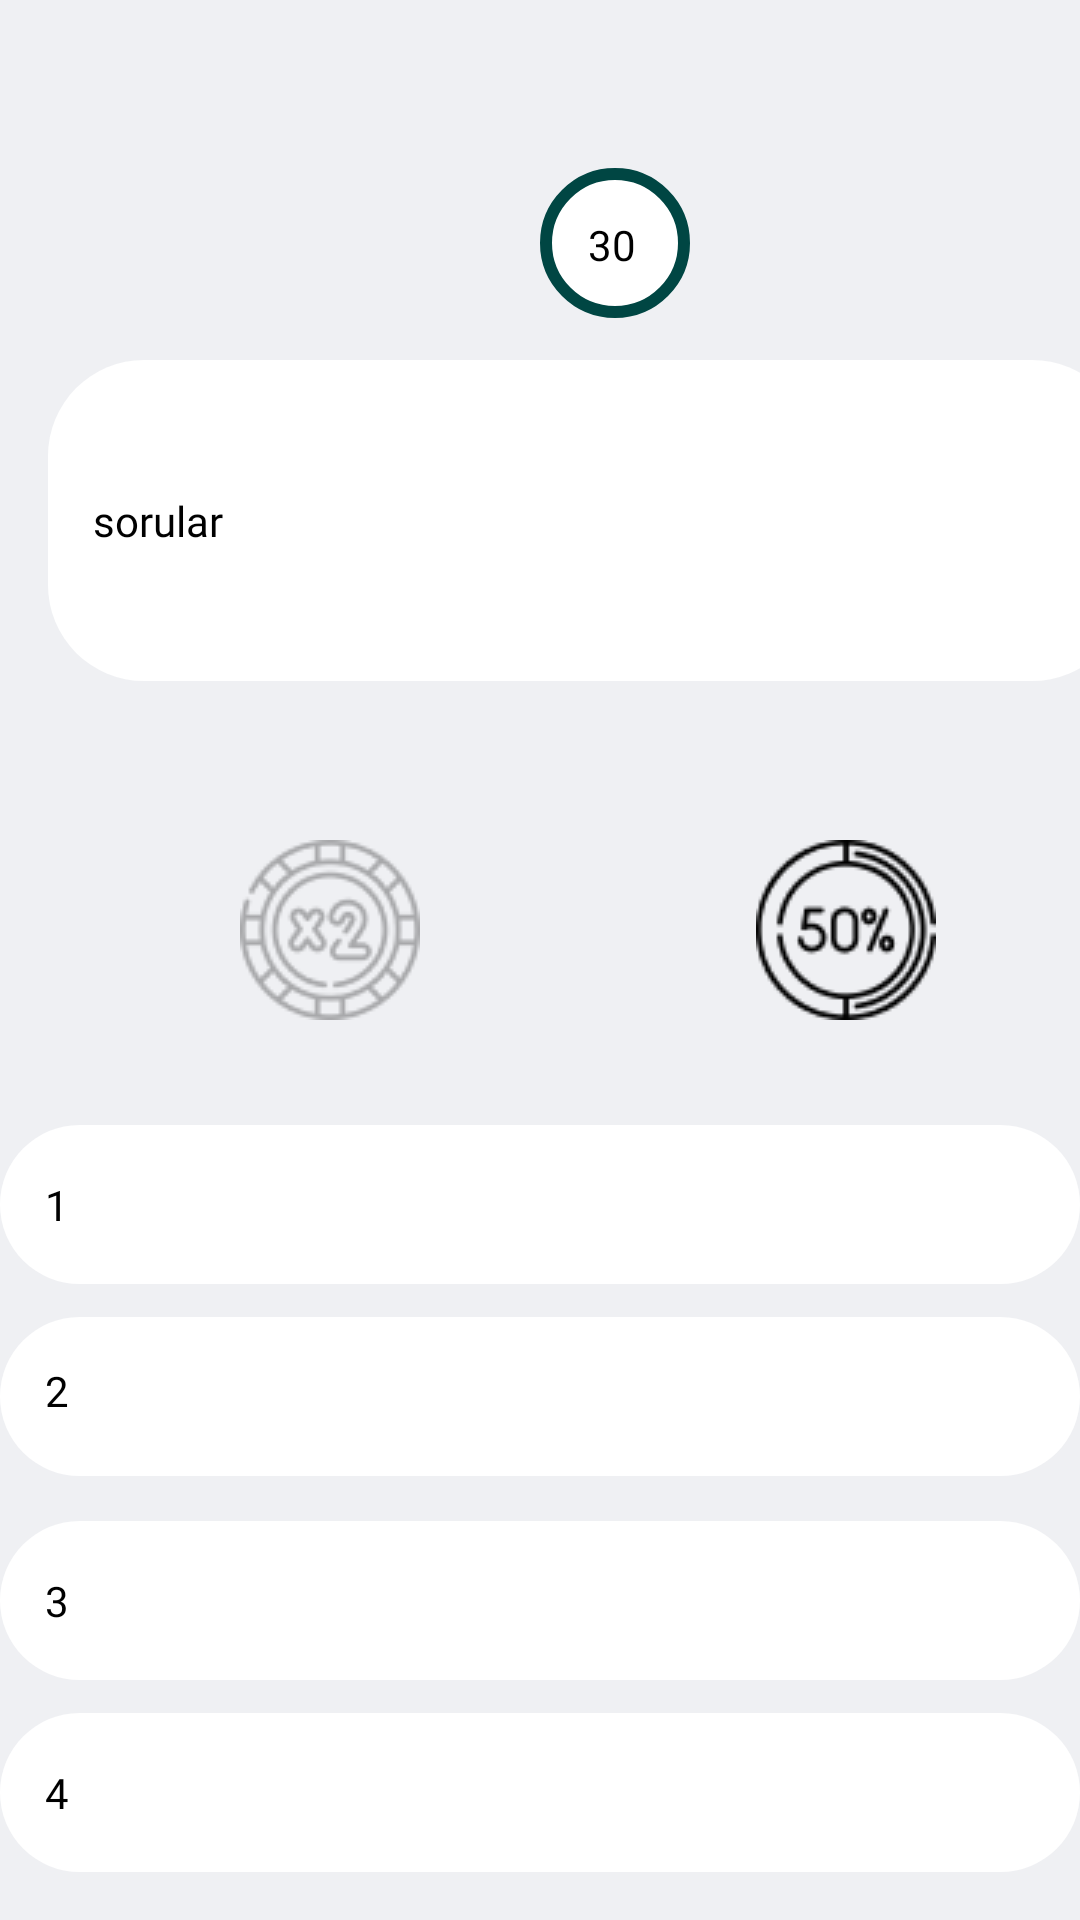

Where to tap for icons on this 1080 × 1920 app screen, as (x=x, y=y):
joker: (x=846, y=930)
